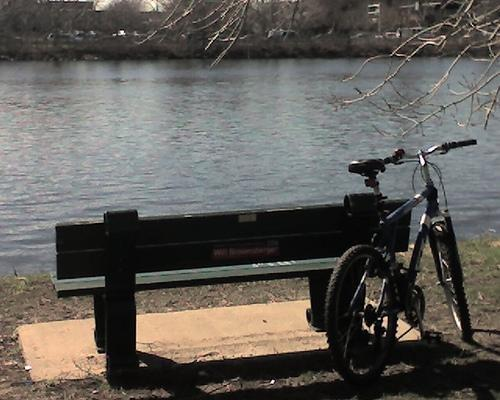bicycle: (325, 136, 478, 384)
